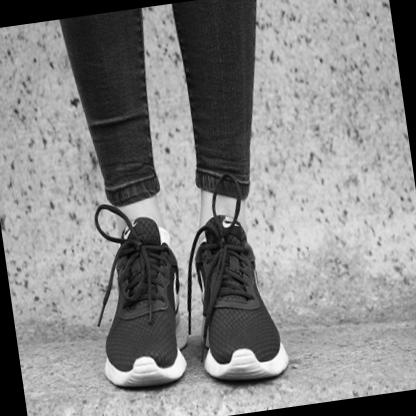ankle: (162, 246, 167, 252), (203, 245, 207, 249)
heel: (204, 312, 208, 317), (176, 309, 179, 313)
left_foot: (188, 216, 291, 385)
pinky: (108, 348, 112, 352), (273, 340, 277, 344)
right_foot: (87, 229, 195, 394)
toe: (164, 353, 169, 360), (217, 351, 221, 355)
